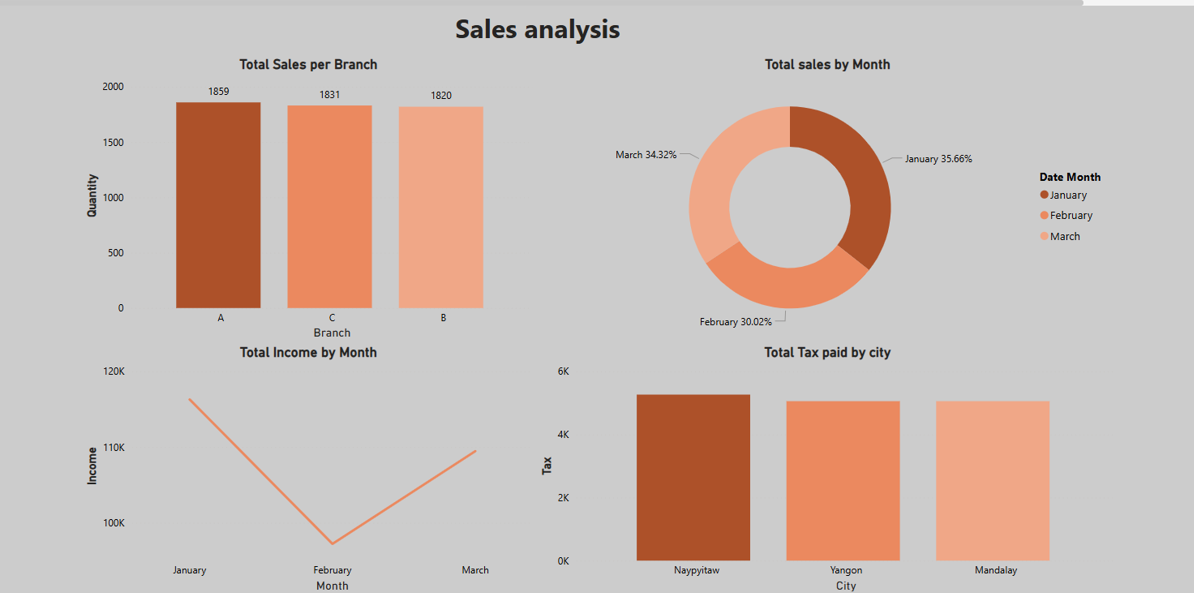

What the dashboard file says about the page in this screenshot:
{"tool":"powerbi","page":{"name":"Sales analysis","canvas":[1280,720],"ordinal":1},"visuals":[{"type":"textbox","box":[9.7,0,1258.1,61.5],"z":0},{"type":"columnChart","title":"Total Sales per Branch","fields":{"Y":["Sum(WalmartSalesData csv.Quantity)"],"Category":["WalmartSalesData csv.Branch"]},"box":[9.7,61.5,557,351.4],"z":1000},{"type":"donutChart","title":"Total sales by Month","fields":{"Category":["WalmartSalesData csv.Date.Variation.Date Hierarchy.Month"],"Y":["Sum(WalmartSalesData csv.Quantity)"]},"box":[566.7,61.5,714.1,351.4],"z":2000},{"type":"lineChart","title":"Total Income by Month","fields":{"Y":["Sum(WalmartSalesData csv.Total)"],"Category":["WalmartSalesData csv.Date.Variation.Date Hierarchy.Month"]},"box":[9.7,412.9,557,307.7],"z":3000},{"type":"clusteredColumnChart","title":"Total Tax paid by city","fields":{"Y":["Sum(WalmartSalesData csv.Tax 5%)"],"Category":["WalmartSalesData csv.City"]},"box":[566.7,412.9,714.1,307.7],"z":4000}]}

Visuals, with their boxes on the page's 1280x720 design canvas (x1, y1, x2, y2). These are canvas units, not pixel positions in the 1194x593 screenshot, which may show the page scaled, cropped or inside an application window:
textbox: select_region(10, 0, 1268, 62)
"Total Sales per Branch" columnChart: select_region(10, 62, 567, 413)
"Total sales by Month" donutChart: select_region(567, 62, 1281, 413)
"Total Income by Month" lineChart: select_region(10, 413, 567, 721)
"Total Tax paid by city" clusteredColumnChart: select_region(567, 413, 1281, 721)
